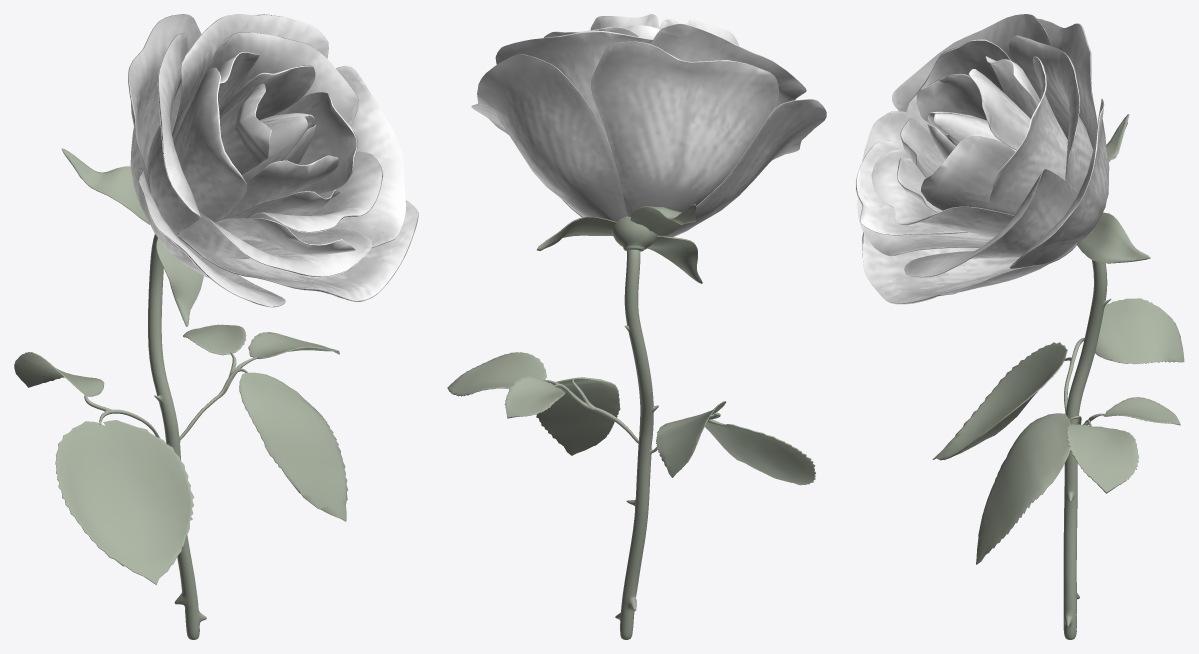
Rendered from rose.glb.
3 views of the same model, side by side, from view 1: azimuth 30°, elevation 25°; view 2: azimuth 150°, elevation 25°; view 3: azimuth 270°, elevation 25° (orthographic). The views are drawn at different scales.
Visible parts, largest first — view 1: rose; view 2: rose; view 3: rose.
Part boxes in pixels (x1=…): rose: x1=14, y1=14, x2=418, y2=639; rose: x1=447, y1=14, x2=826, y2=639; rose: x1=855, y1=14, x2=1184, y2=639.
Size of the model in its own units: 1.89 by 3.42 by 1.68.
2 materials, 1 textured.
